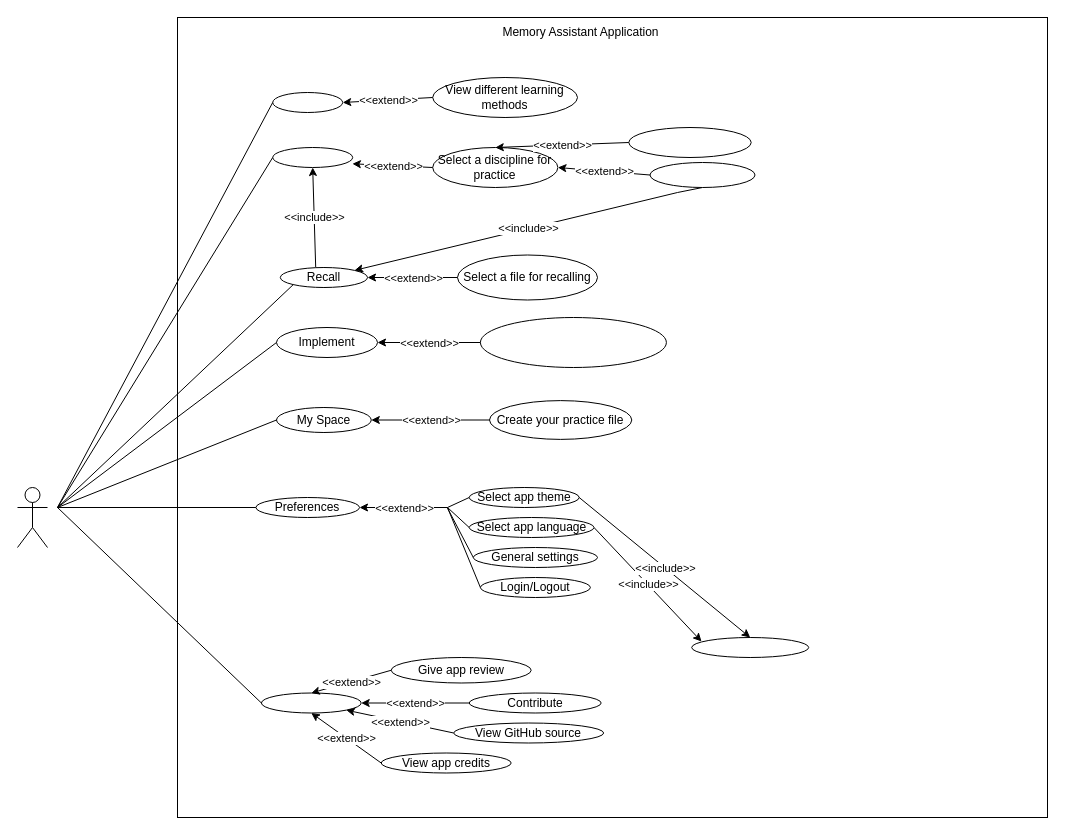
This 1065x835 diagram has some shape labels left out. Here are the shapes that lost their labels. From the top down, the centre of each, then its label:
At point 307,102: "Learn".
At point 312,157: "Practice".
At point 689,142: "Customize Practice".
At point 702,175: "Start practice".
At point 572,342: "View different implementation techniques".
At point 32,517: "User".
At point 750,647: "App restart".
At point 310,702: "Be A Part".
